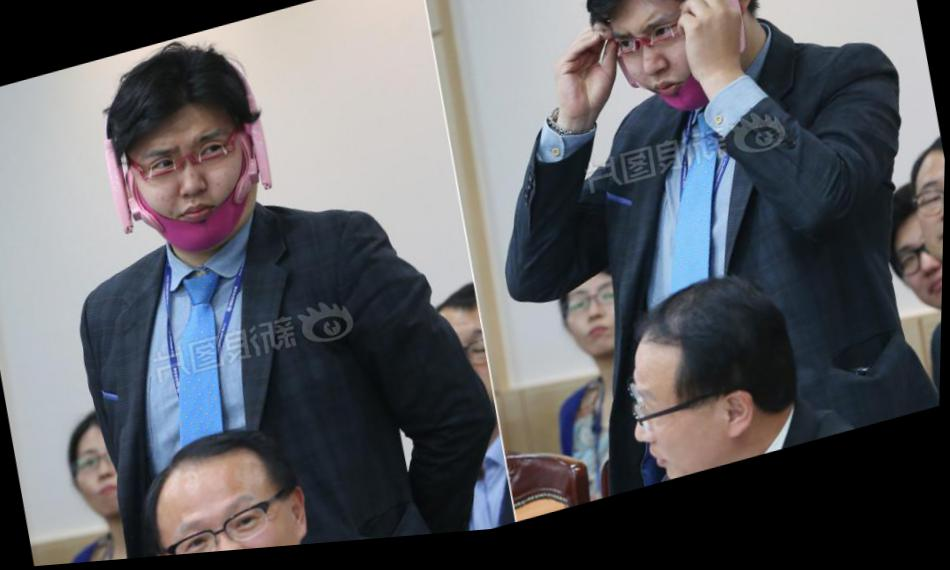NONE: (623, 361, 757, 501), (166, 480, 303, 559), (69, 430, 146, 525), (882, 229, 945, 341), (562, 287, 635, 368), (906, 184, 946, 289)
WRONG: (127, 121, 267, 267), (598, 1, 730, 136)
